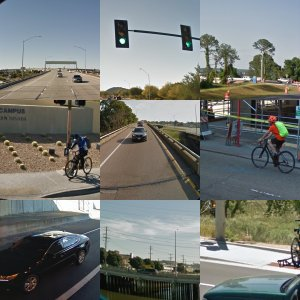汽車: (209, 142, 272, 172), (100, 176, 156, 201)
行人穿越道: (200, 40, 300, 100), (3, 244, 100, 290), (1, 27, 99, 61)
